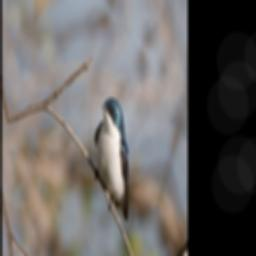Swallow: (81, 88, 151, 231)
